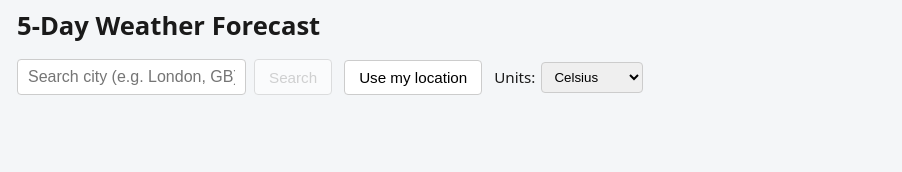
it: App › shows an error message when the API request fails
Type "Nowhereville" into the field named "city name".
click(132, 77); type("Nowhereville")  # box [17,59,246,95]
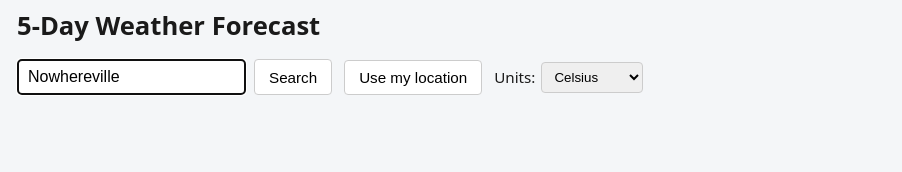
Click the button "Search".
click(293, 77)  # box [254,59,332,95]
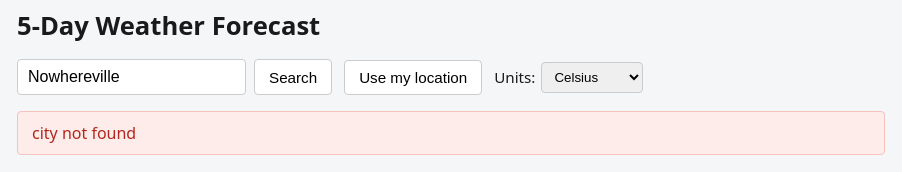
Now the message reads "city not found", box [32,122,136,144]
